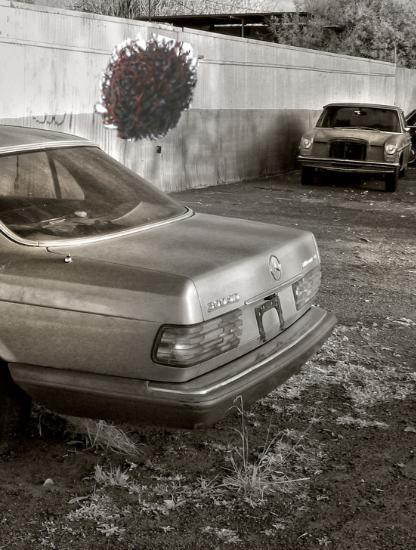Rambutan: (90, 33, 200, 143)
